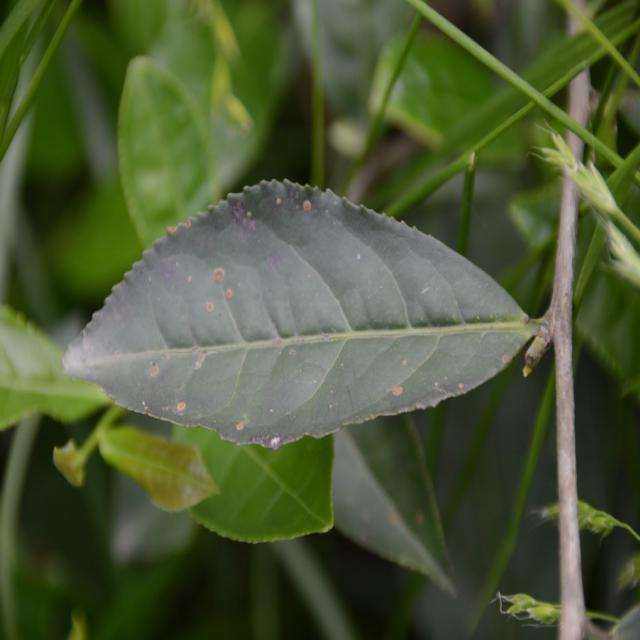Tea algae leaf spot: (138, 181, 516, 427)
